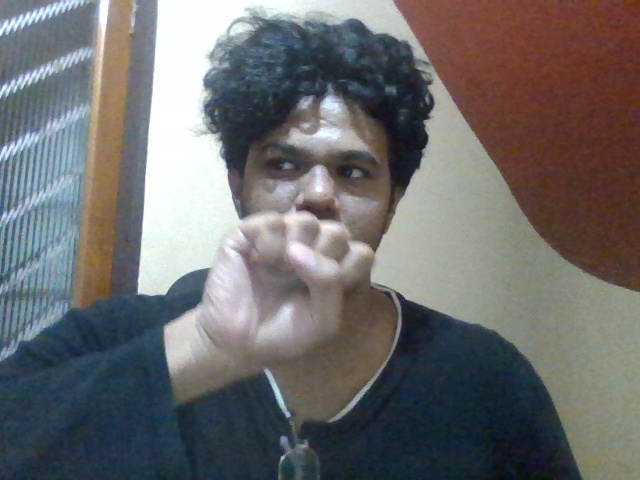no: (196, 206, 369, 353)
